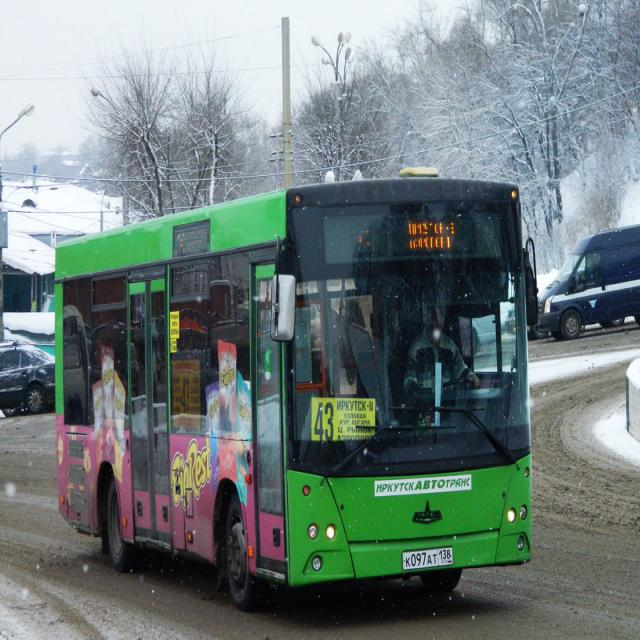number-of-bus: (312, 400, 337, 443)
